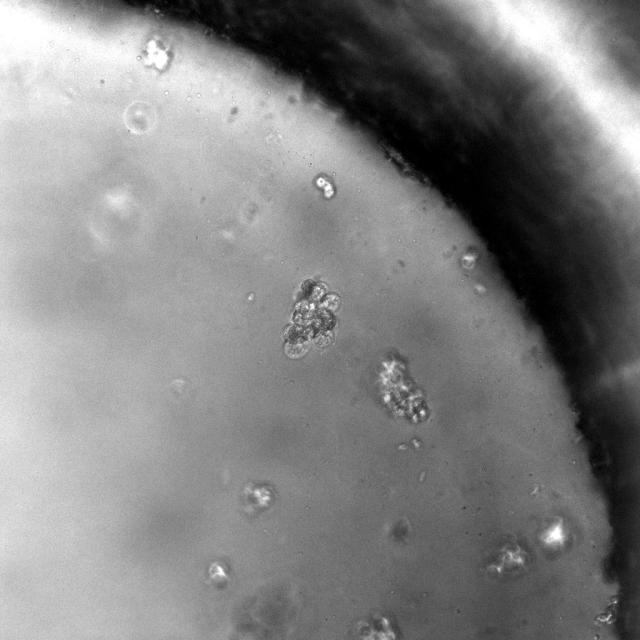organoid: (282, 279, 340, 358), (377, 354, 430, 423), (484, 534, 534, 580), (535, 512, 579, 559), (141, 34, 172, 71), (242, 481, 274, 515), (356, 614, 397, 639), (386, 517, 412, 545), (594, 596, 618, 624), (207, 562, 229, 587), (314, 173, 335, 198)
